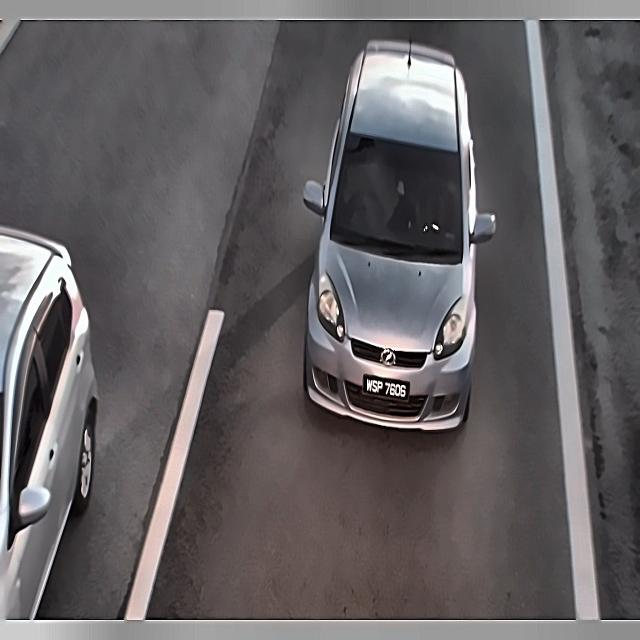car: (358, 367, 414, 408)
